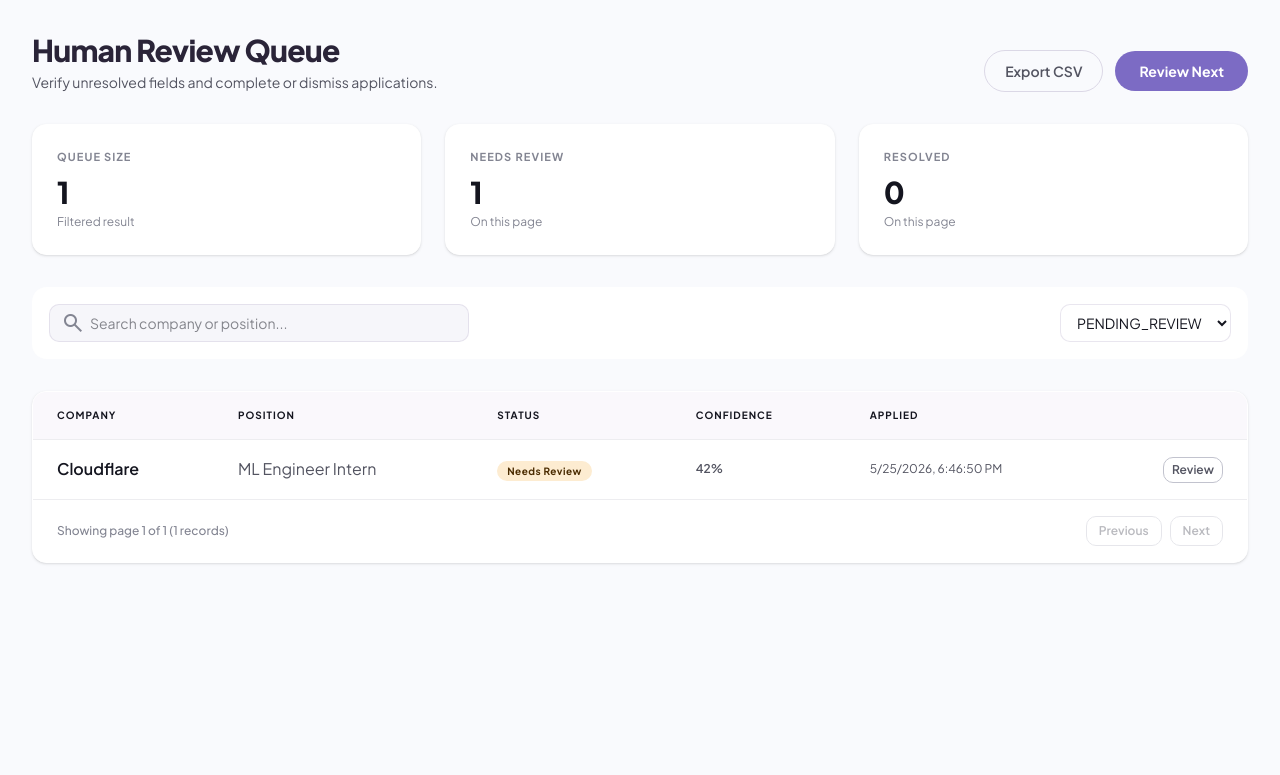
Test: HumanReviewPage textarea + save flow › prefills the textarea from server-returned user_answers
Click the button "Review Next": (1182, 71) left=1116, top=51, right=1248, bottom=91
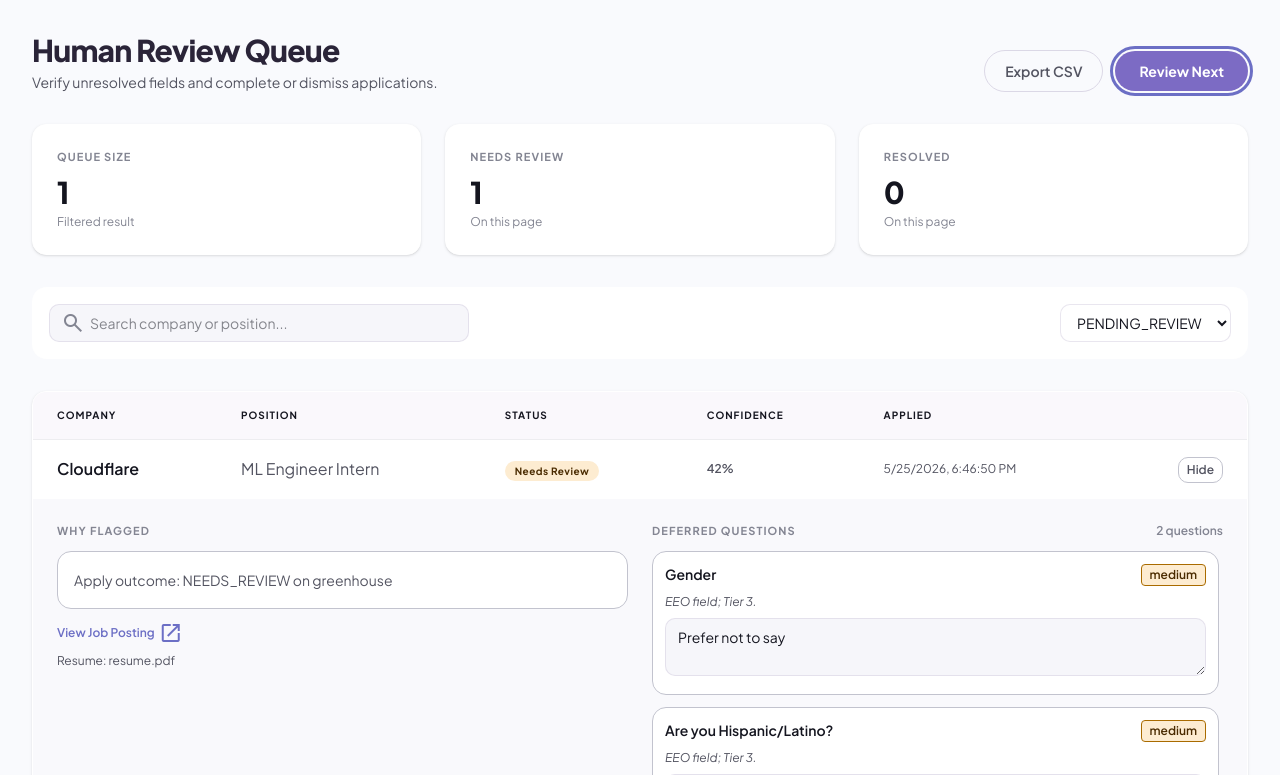
Check: the text box named "Answer for Gender" holds "Prefer not to say", box left=665, top=618, right=1206, bottom=676
